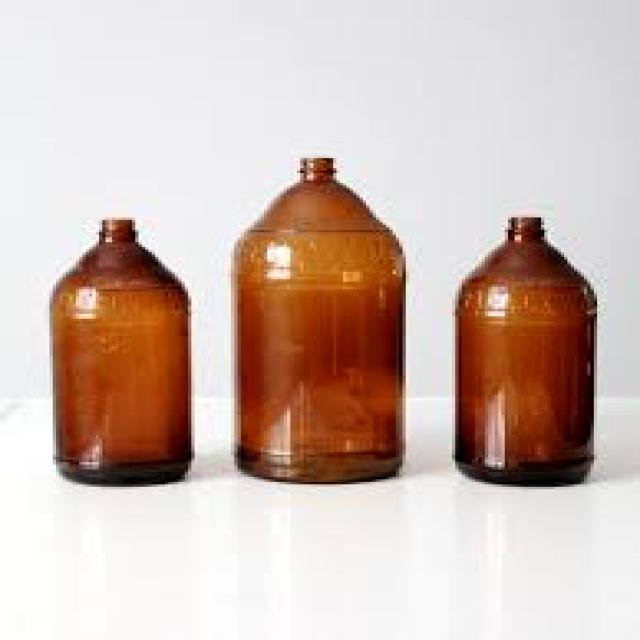Glass: (228, 150, 411, 487), (451, 214, 606, 491), (45, 214, 198, 490)
